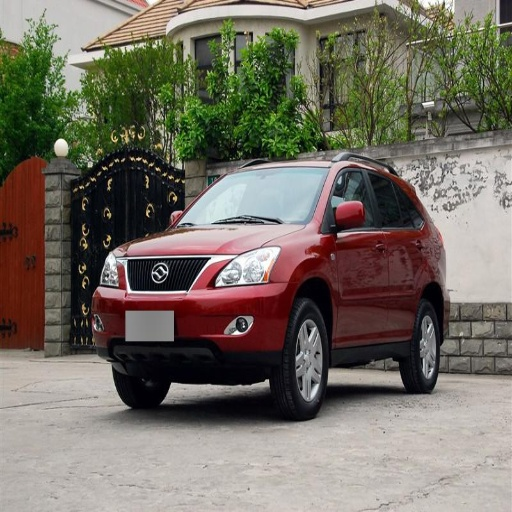back_glass: (365, 165, 425, 337)
back_right_light: (90, 255, 294, 363)
front_bumper: (177, 168, 328, 224)
front_glass: (327, 163, 387, 344)
front_left_door: (211, 245, 278, 288)
front_right_door: (101, 254, 122, 287)
front_right_light: (121, 225, 303, 254)
trunk: (276, 298, 328, 419), (402, 301, 439, 392), (113, 366, 169, 408)
